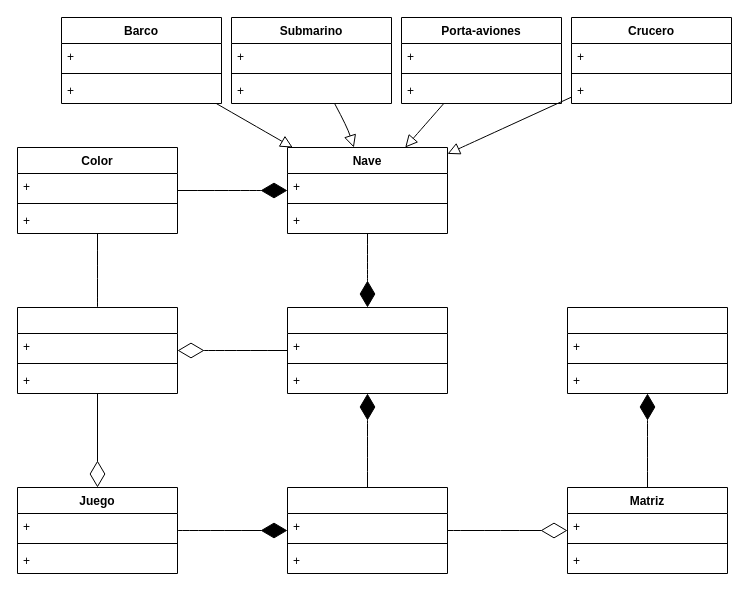
This 749x594 diagram has some shape labels left out. Here are the shapes that lost their labels. From the top down, the box of each, then its label:
(16, 306, 178, 394): Jugador
(286, 306, 448, 394): Flotilla
(566, 306, 728, 394): Casilla
(286, 486, 448, 574): Tablero
